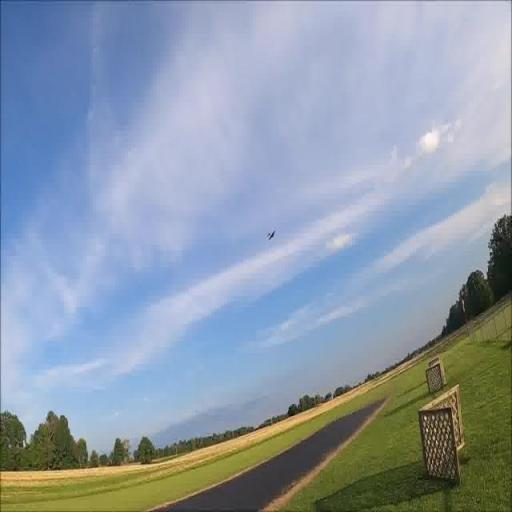uav: (266, 226, 279, 244)
